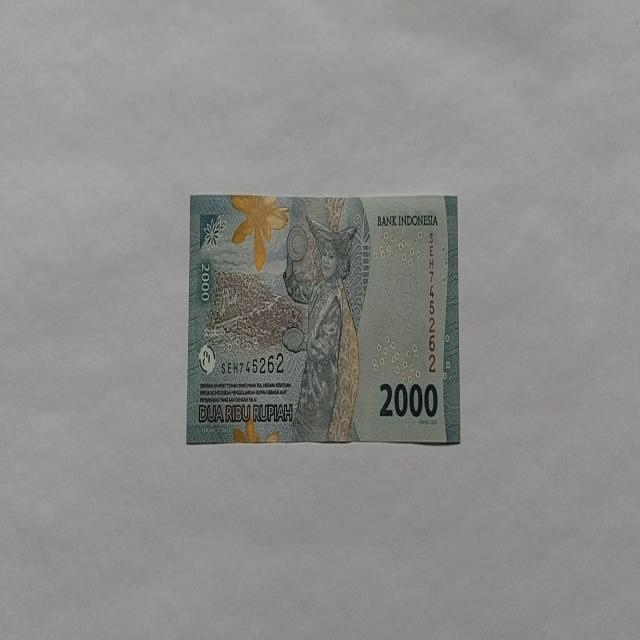dua ribu rupiah: (185, 192, 460, 446), (281, 212, 361, 442)
